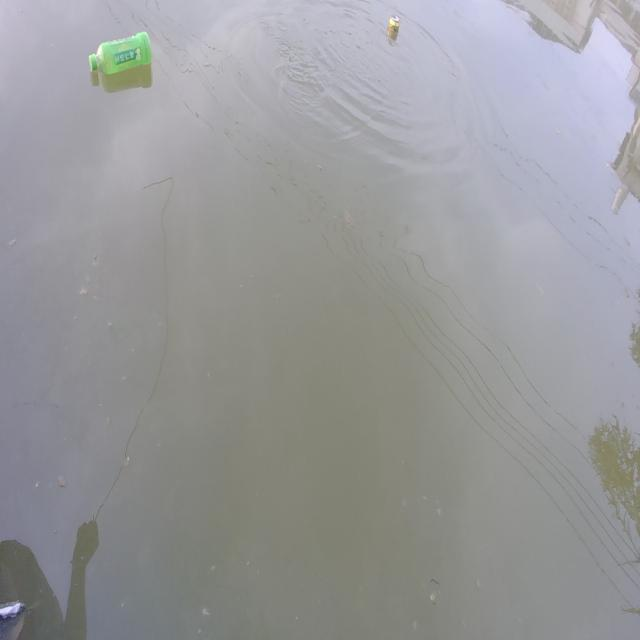garbage: (88, 30, 152, 93)
